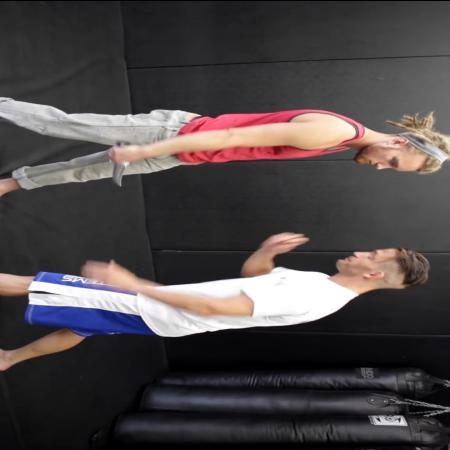long weapon: (104, 136, 140, 190)
